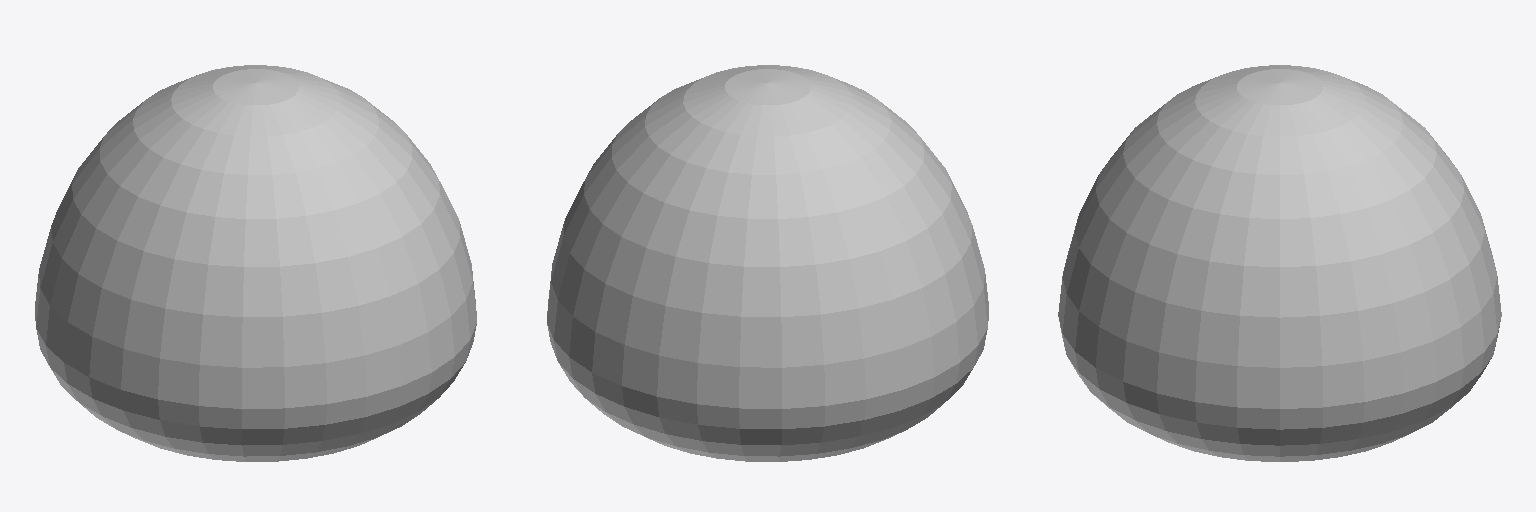
File: slime_outer.obj
3 renders of one model, left to right at view 1: azimuth 30°, elevation 25°; view 2: azimuth 150°, elevation 25°; view 3: azimuth 270°, elevation 25°, orthographic.
Visible parts, largest first — view 1: outer; view 2: outer; view 3: outer.
Boxes of the visible parts, x1=… form: outer: x1=35, y1=65, x2=476, y2=461; outer: x1=547, y1=65, x2=988, y2=461; outer: x1=1058, y1=65, x2=1501, y2=461.
Bounding box in the file's own units: 1 × 0.8622 × 1.